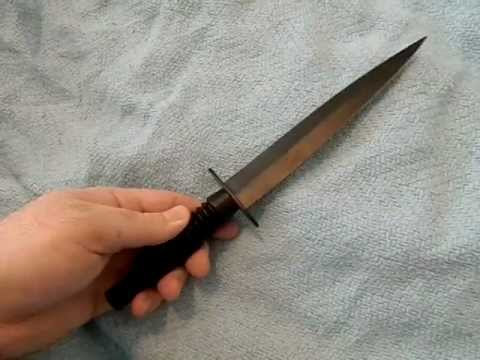knife: (144, 23, 440, 298)
